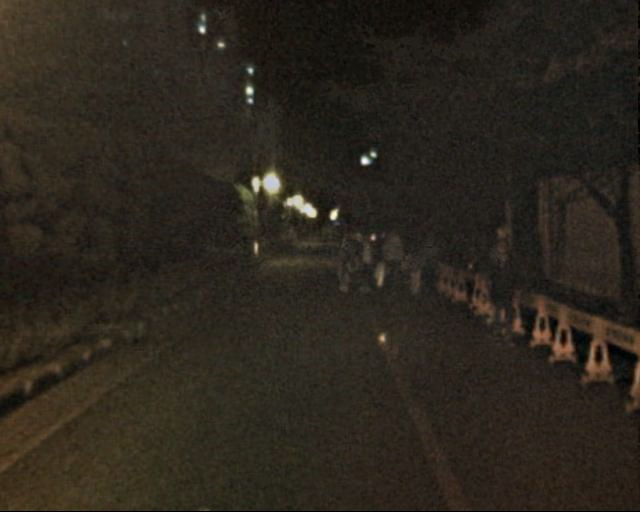person: (477, 242, 520, 348), (378, 230, 405, 295), (331, 234, 357, 297), (419, 234, 444, 296), (403, 242, 428, 302), (353, 235, 376, 292), (366, 236, 388, 289)
